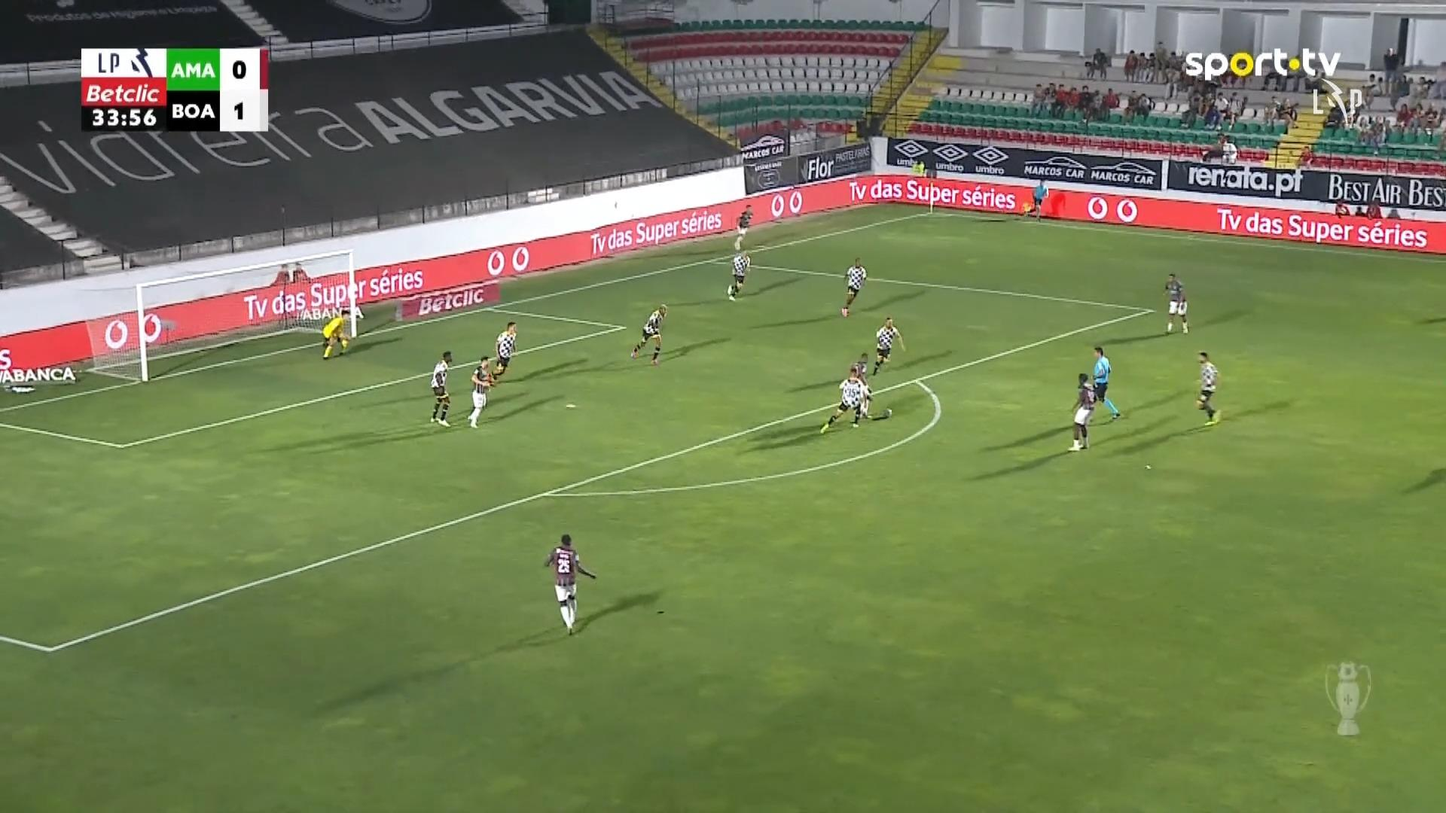ball: (884, 407, 892, 417)
goalkeeper: (320, 308, 349, 359)
player: (543, 532, 596, 635), (819, 365, 873, 433), (629, 303, 668, 365), (466, 355, 496, 428), (1069, 372, 1097, 450), (1194, 350, 1222, 425), (871, 315, 905, 374), (429, 350, 453, 426), (840, 257, 867, 317), (1163, 272, 1189, 334), (491, 320, 517, 382), (851, 353, 874, 419), (726, 251, 751, 300), (734, 203, 754, 250)
referee: (1091, 345, 1121, 419), (1031, 178, 1048, 218)
